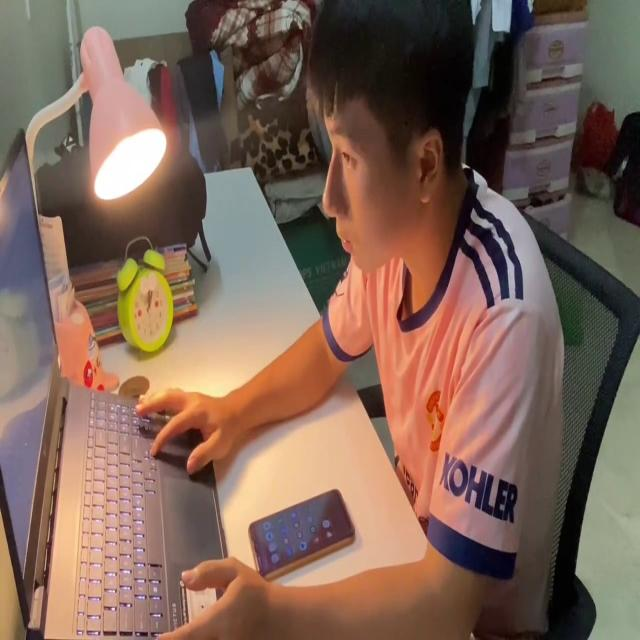laptop: (1, 126, 242, 640)
phone: (248, 486, 355, 577)
student: (137, 0, 561, 640)
